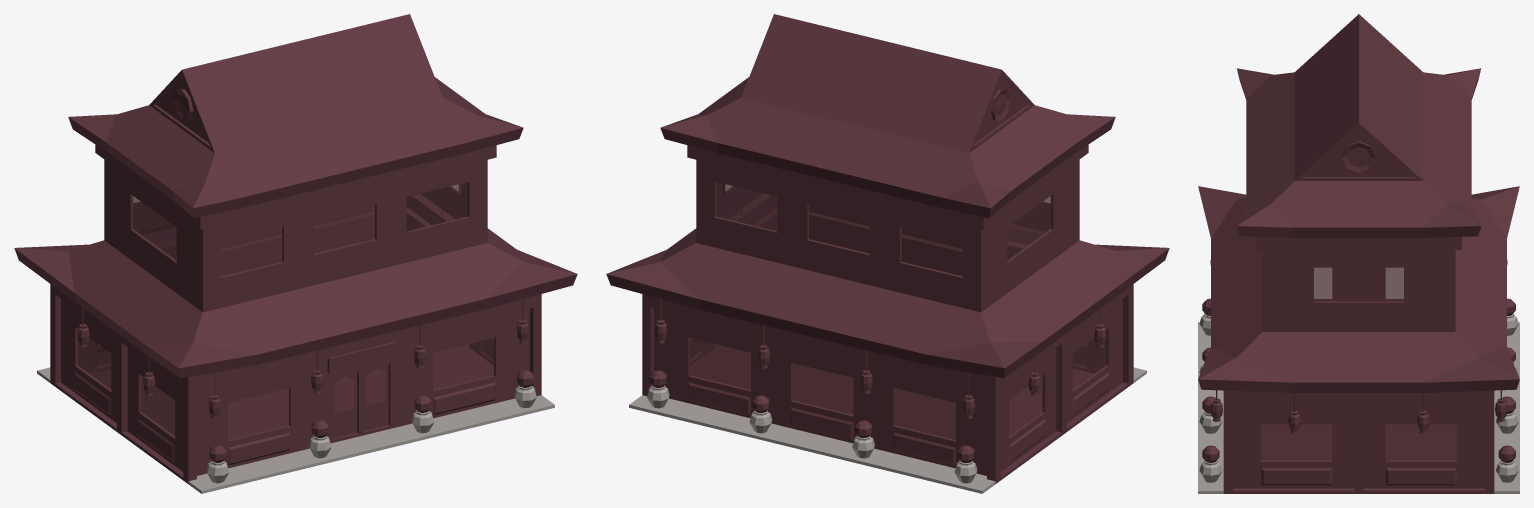
The model's file is building-restuarant-china.fbx.
The picture shows the model from 3 angles, left to right: view 1: azimuth 30°, elevation 25°; view 2: azimuth 150°, elevation 25°; view 3: azimuth 270°, elevation 25°; orthographic projection. The views are drawn at different scales.
Visible parts, largest first — view 1: building-restuarant-china; view 2: building-restuarant-china; view 3: building-restuarant-china.
Part boxes in pixels (x1,y1,x2,y2): building-restuarant-china: [14, 14, 577, 493]; building-restuarant-china: [606, 14, 1169, 493]; building-restuarant-china: [1198, 14, 1519, 493].
Bounding box in the file's own units: 14 × 11.7 × 10.
